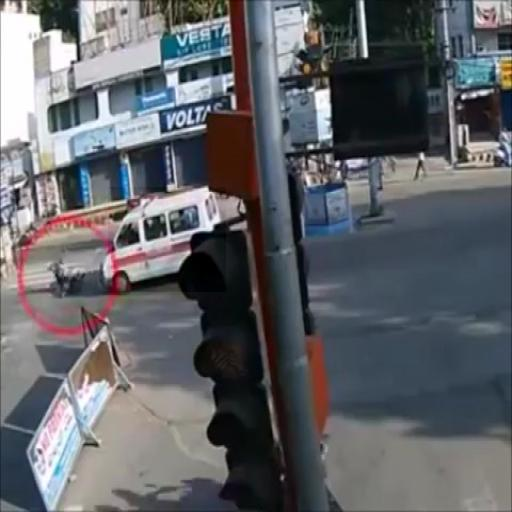小汽车: (108, 187, 226, 292)
